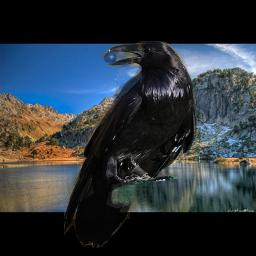Crow: (64, 41, 198, 248)
